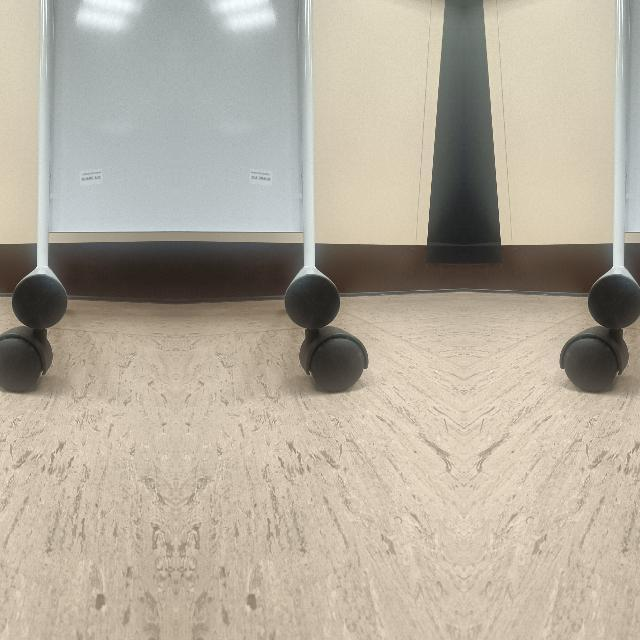obstacle: (280, 168, 370, 392), (557, 167, 640, 392), (0, 167, 70, 392)
